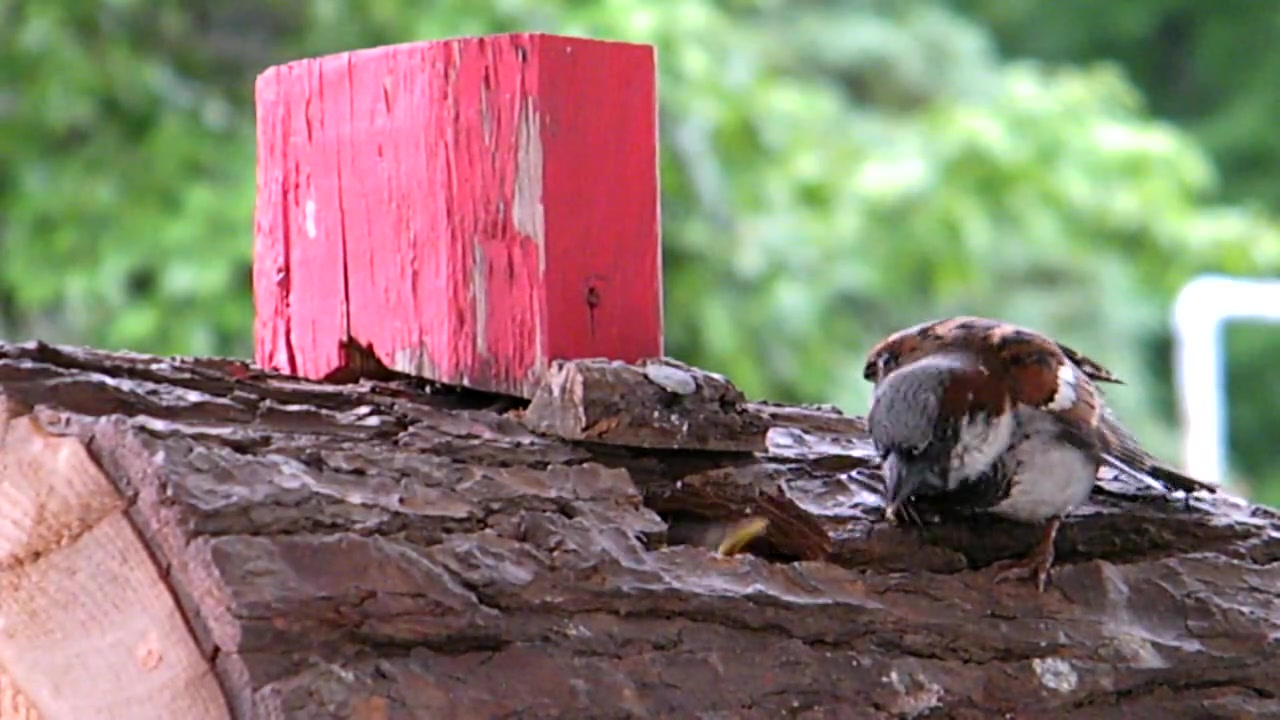bird: (864, 316, 1218, 593)
